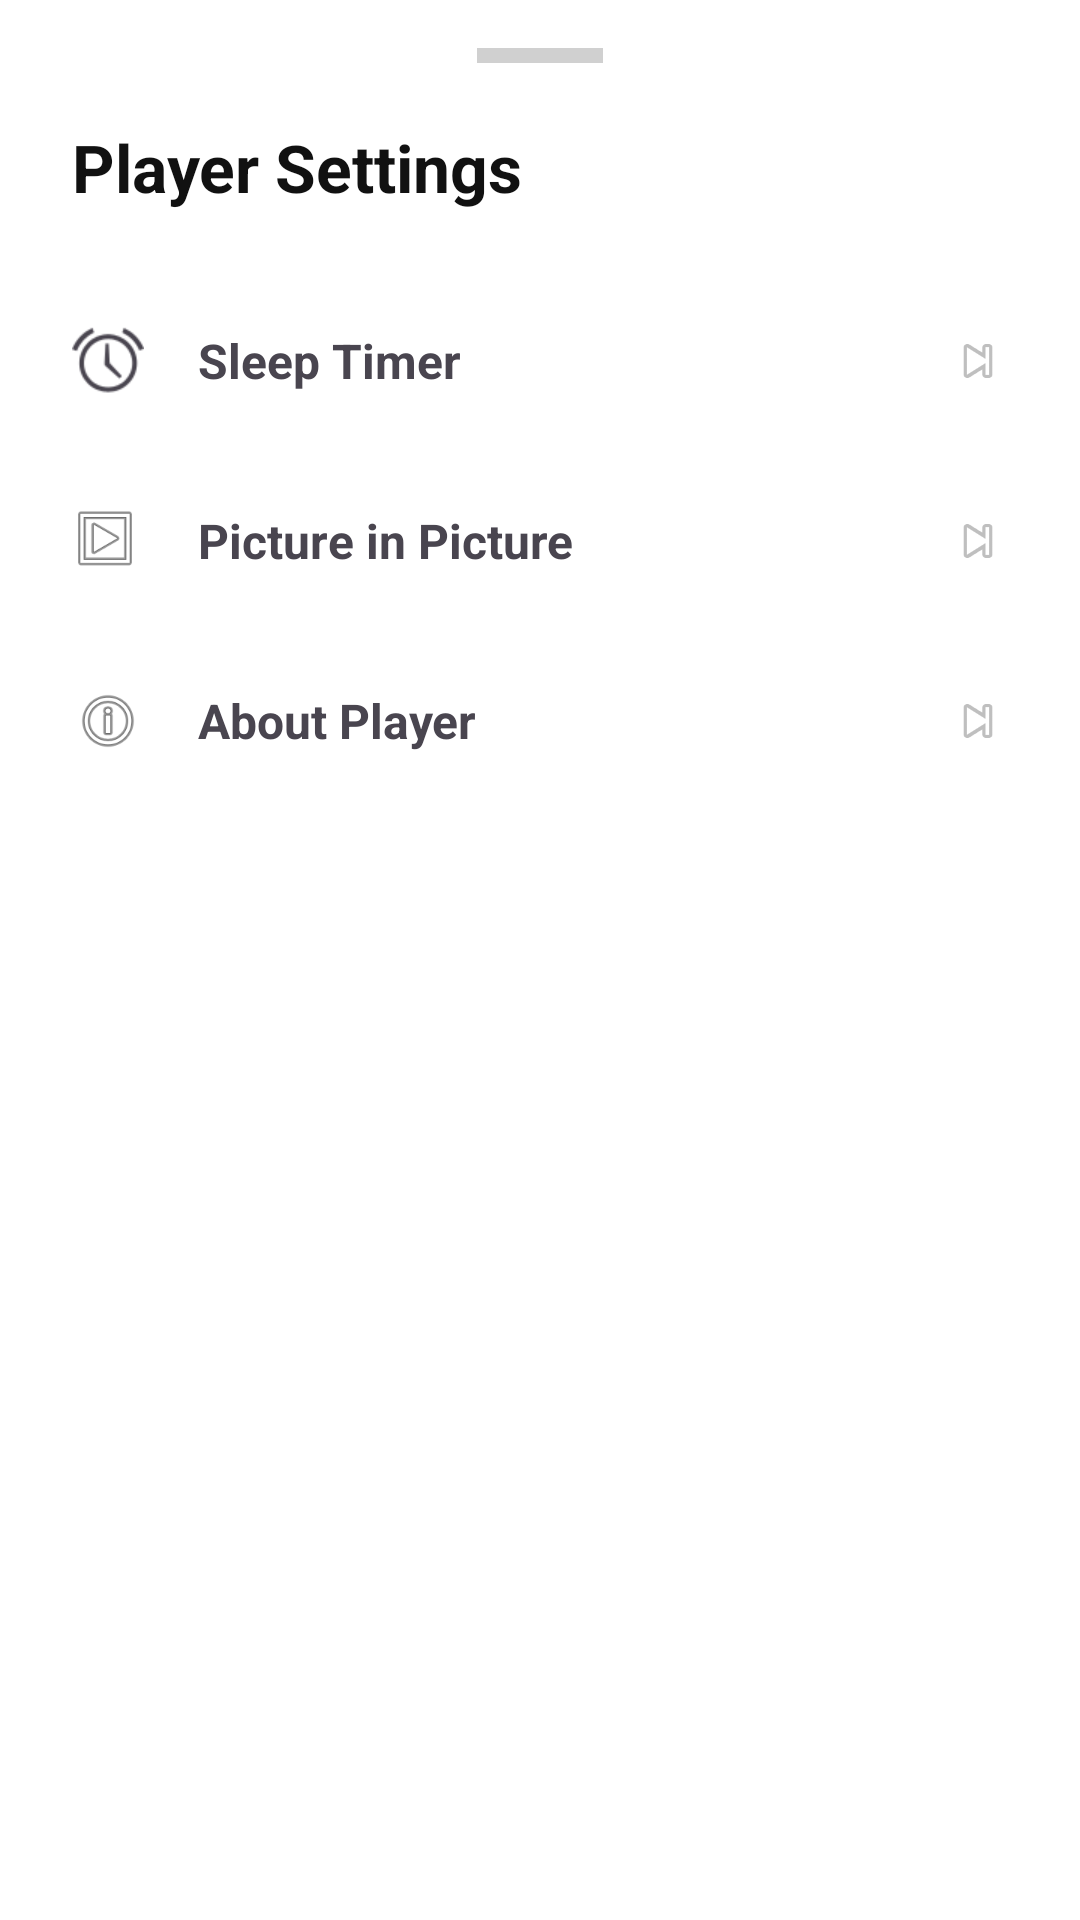

Point at icon controls on the screen. Image size 1080w x 1920h, points as point (x, y).
info details: point (108, 721)
lock idle alarm: point (108, 360)
next: point (978, 361), point (978, 541), point (978, 721)
slideshow: point (105, 538)
